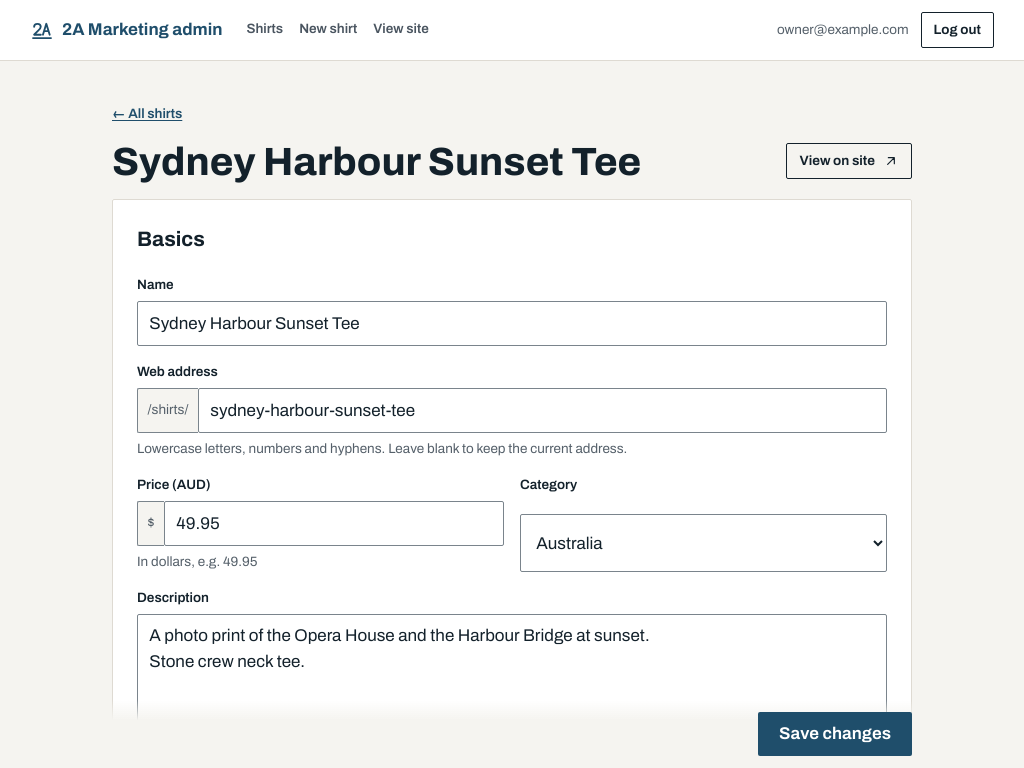
Test case: product editor › sends the admin to login if the session expires while saving
Expected: the field labelled "Price (AUD)" is shown, top-left (164, 501), bottom-right (504, 546)
Step 1. Click the button "Save changes" → (835, 734), box top-left (758, 712), bottom-right (912, 756)
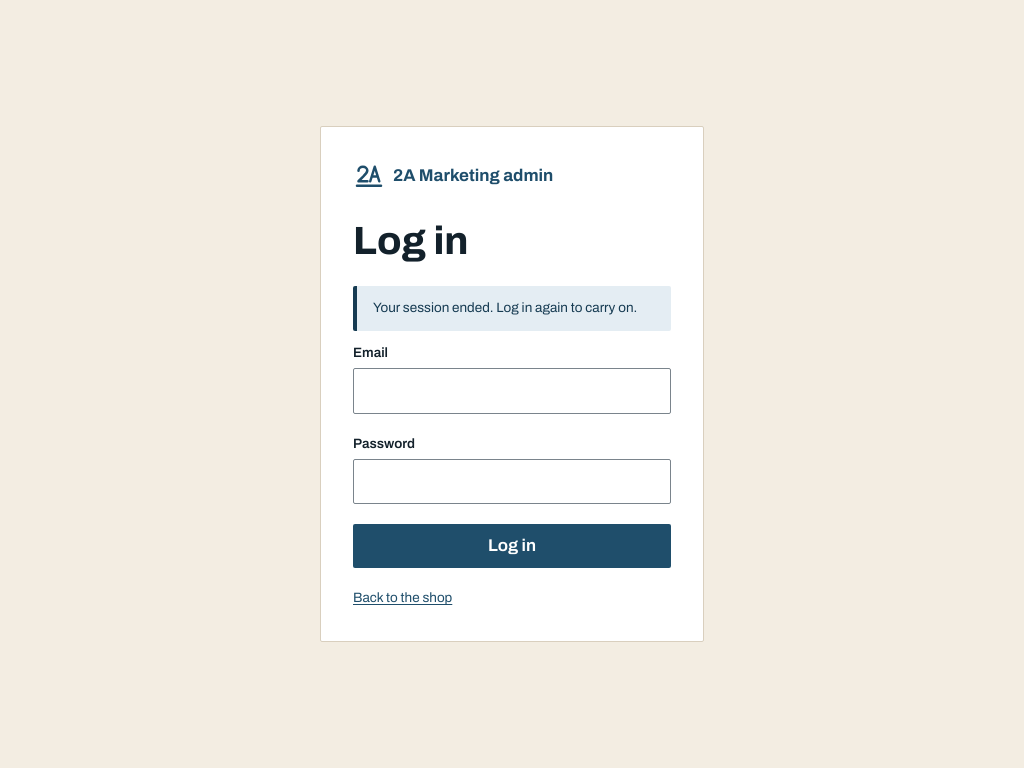
Expected: the heading "Log in" is shown, top-left (353, 219), bottom-right (469, 262)
Expected: the text "Your session ended. Log in again to carry on." is shown, top-left (353, 286), bottom-right (671, 331)
